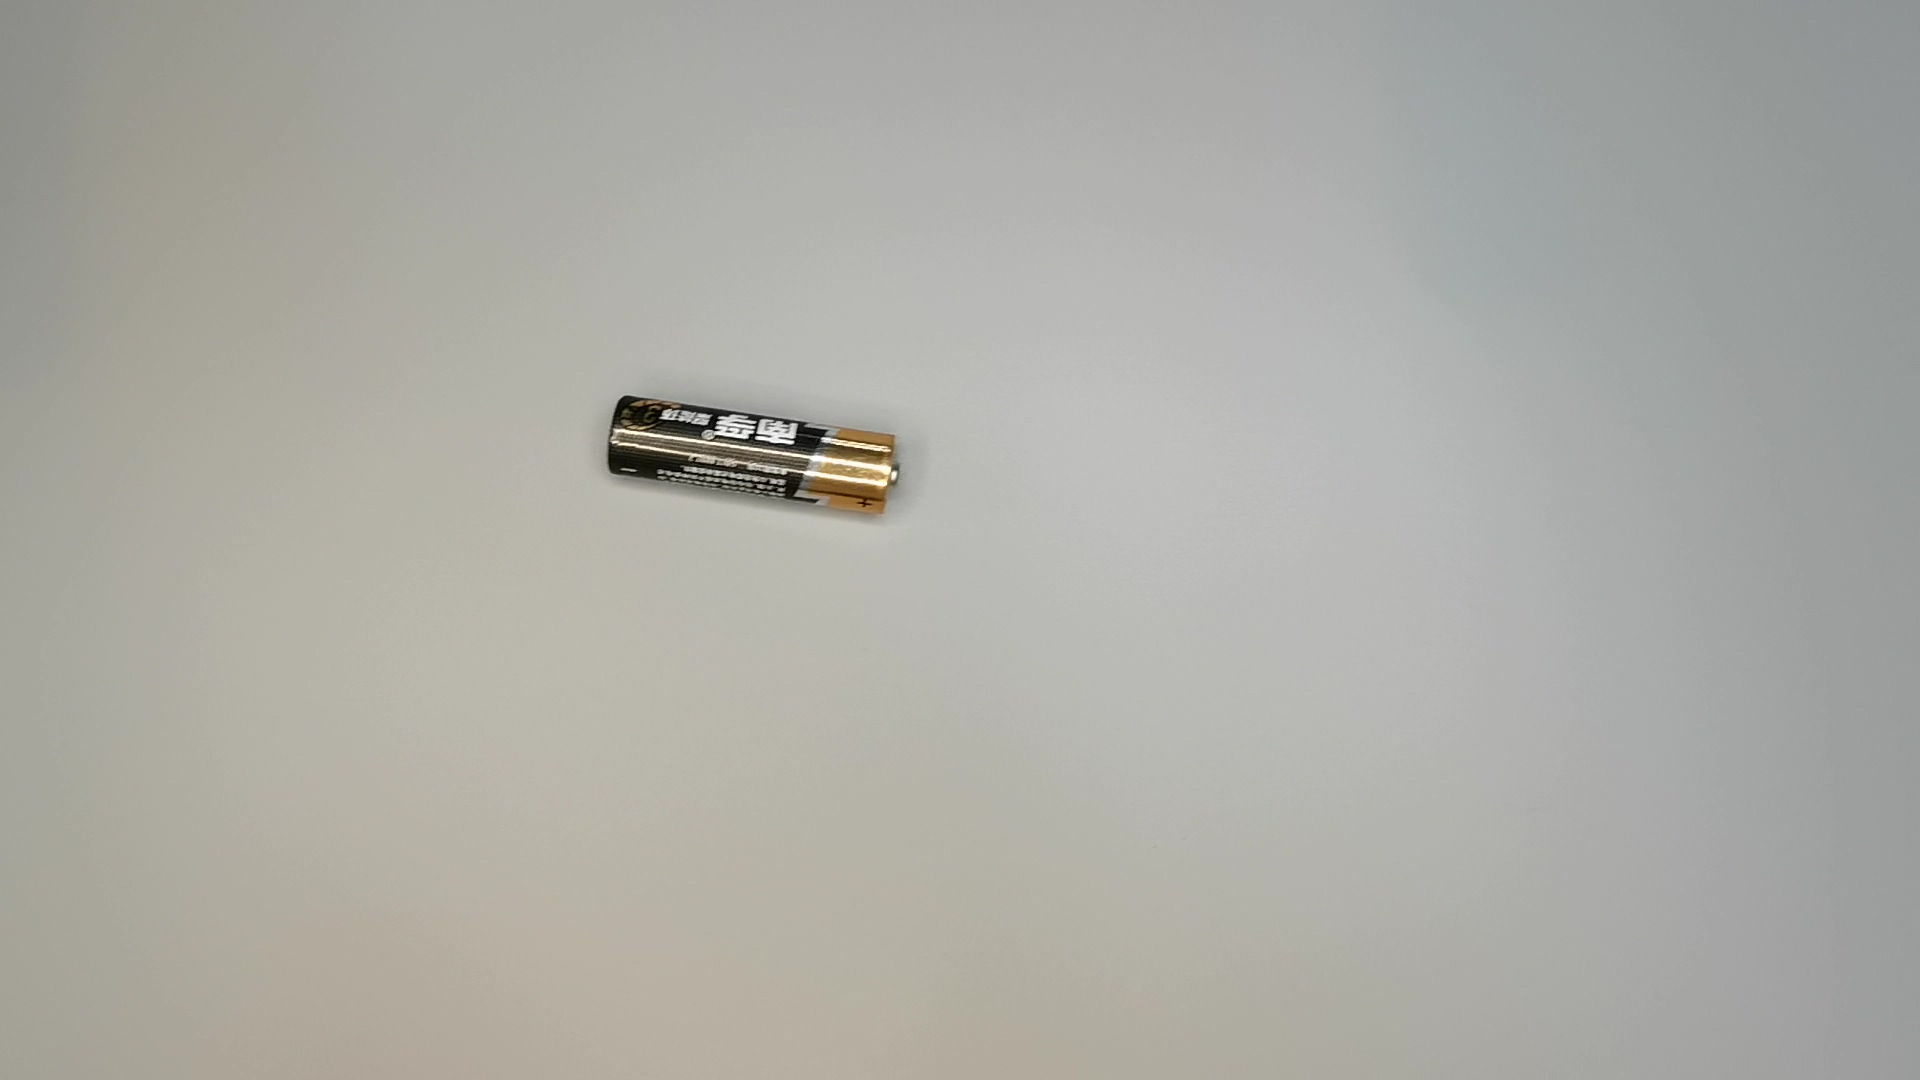battery: (600, 390, 911, 527)
